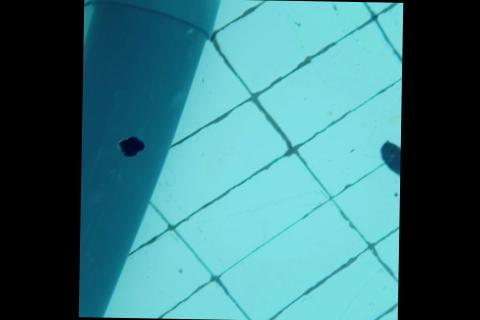kebocoran: (115, 135, 145, 159)
